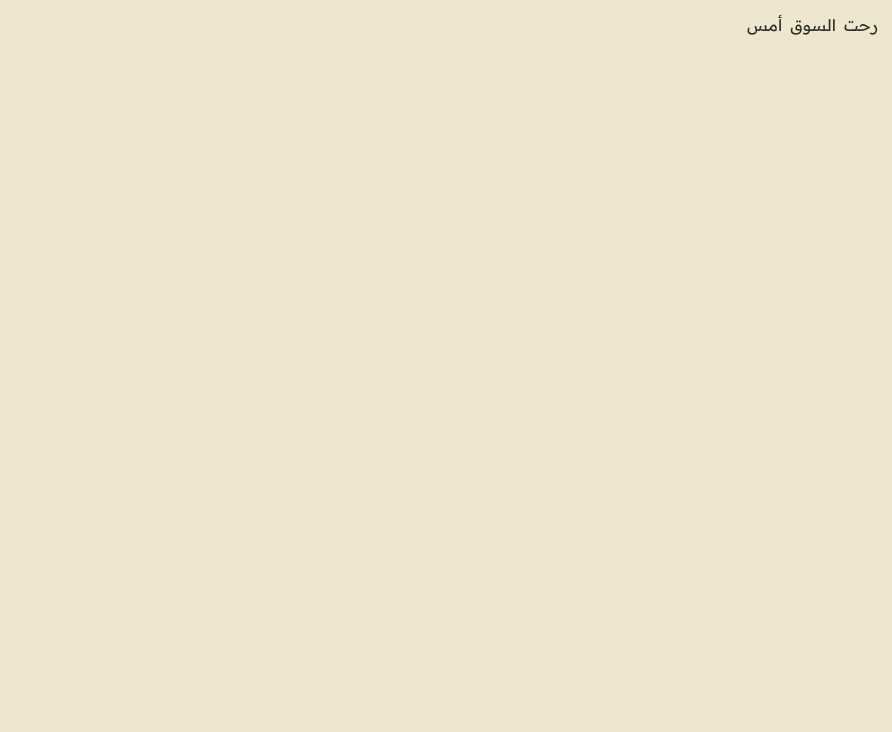
Test: selecting a phrase › turns every word into a selection toggle
Press the mouse on the button with aria-label "Look up “رحت”" at (861, 26), box [842,12,880,39]
Wait 500 ms
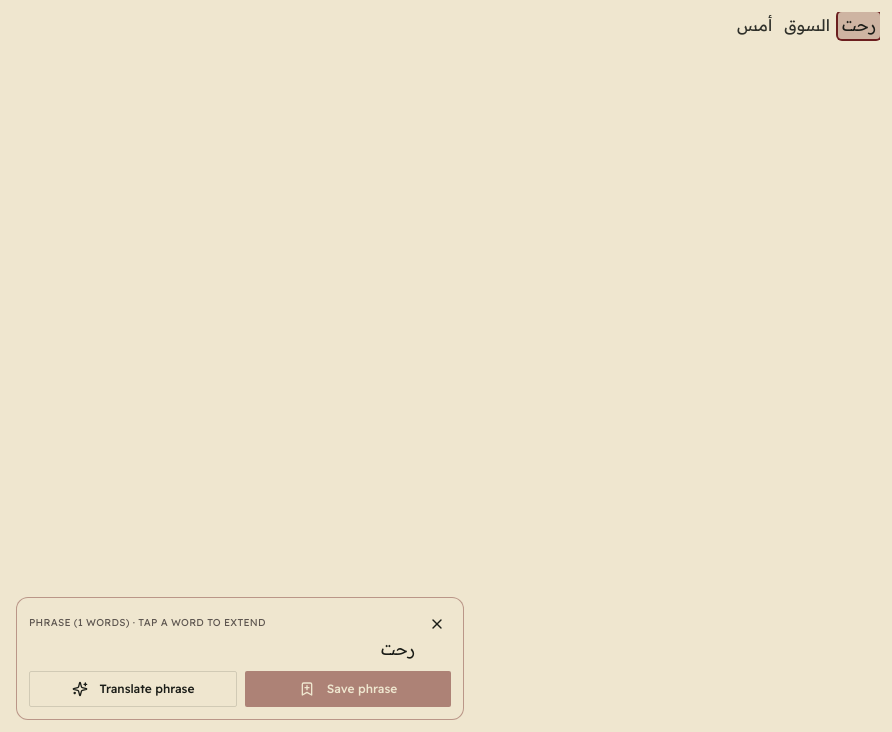
Expected: the button with aria-label "Extend phrase selection to “السوق”" is shown, [780,12,834,39]
